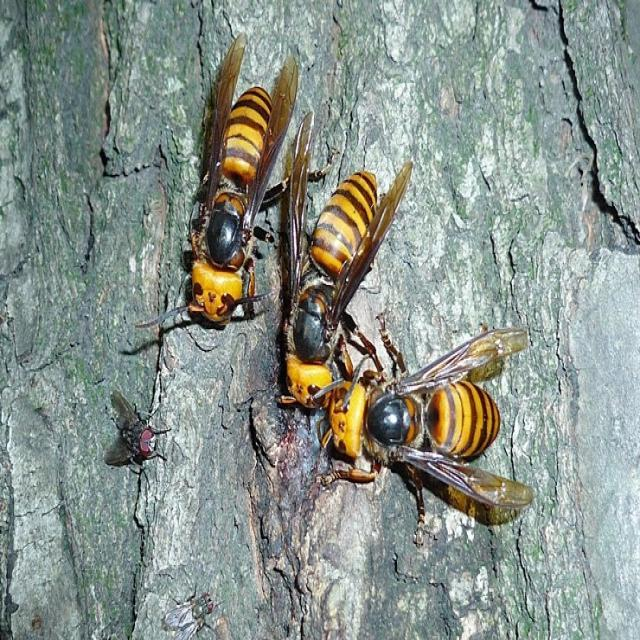Wasp: (163, 52, 275, 328), (329, 362, 532, 514), (273, 133, 381, 414)
